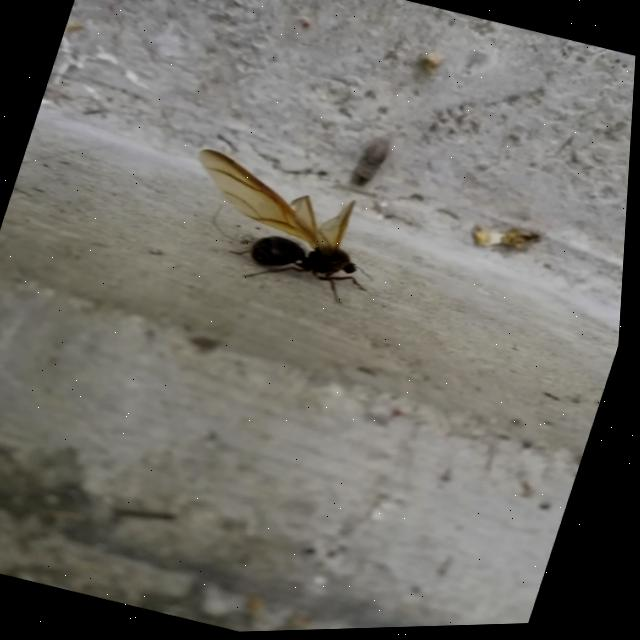Alive-Female-Alate: (162, 141, 405, 317)
